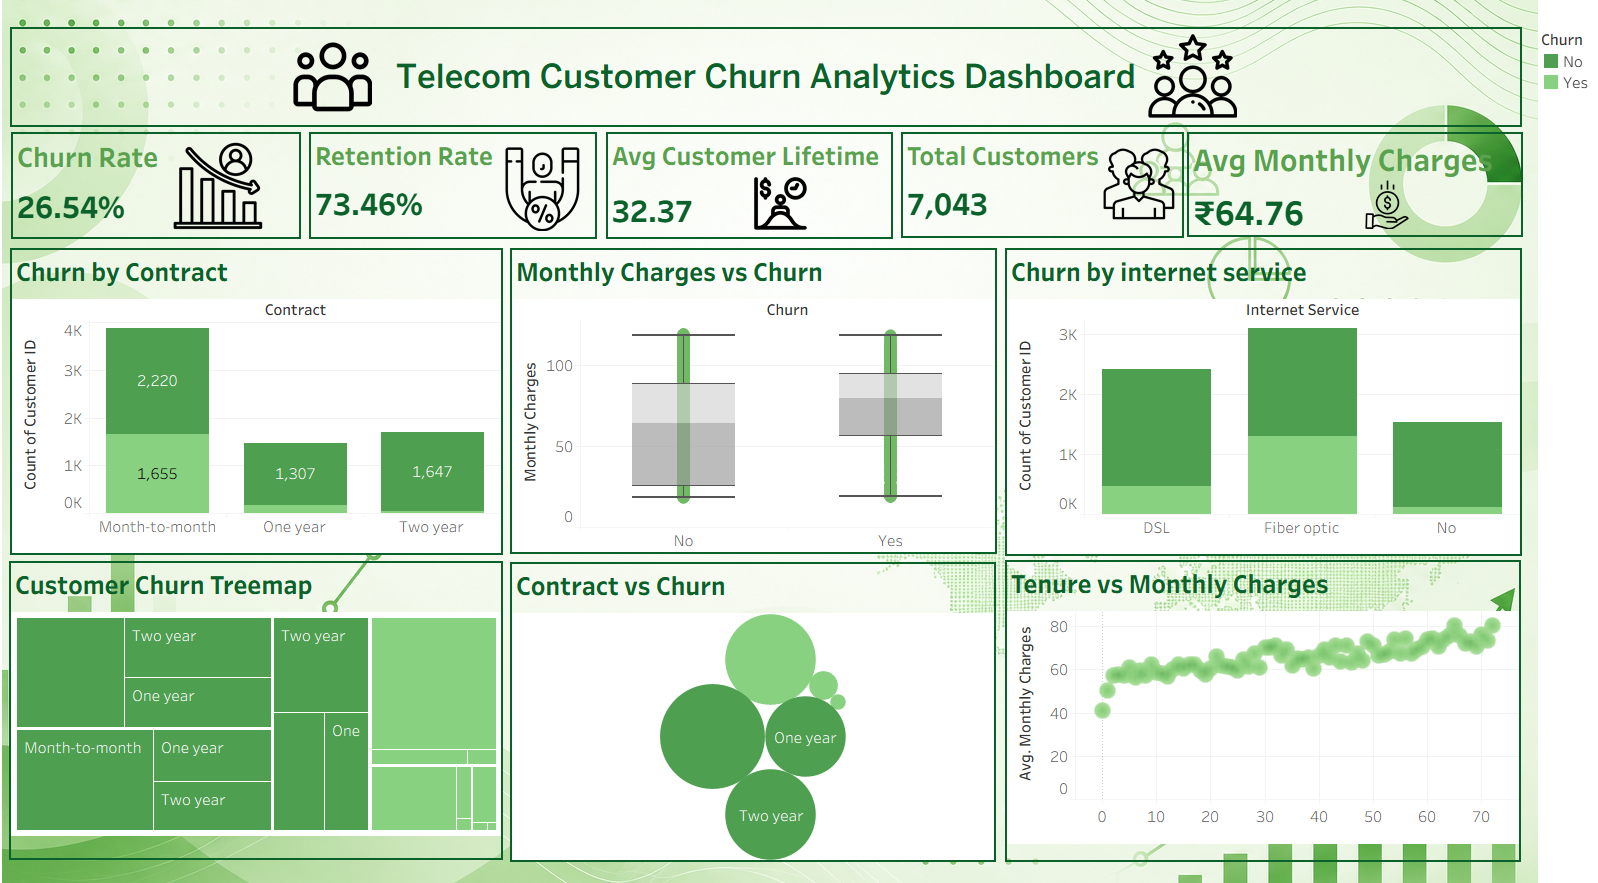

The page's visual inventory and layout, read from the dashboard file:
{"tool":"tableau","page":{"name":"Dashboard 1","canvas":[1000,1000],"units":"permille","ordinal":0},"visuals":[{"type":"text","box":[5.8,28,879.1,115.9]},{"type":"legend","title":"Churn by Contract","param":"[federated.1d74etf1fx899f15xdj3m0omlz8l].[none:Churn:nk]","box":[895.9,30.6,63.4,114.7]},{"type":"image","param":"Image/rating.png","box":[663.4,33.1,60.5,103.2]},{"type":"image","param":"Image/customer.png","box":[169.8,39.5,47.1,91.7]},{"type":"worksheet","title":"churn rate","mark":"Automatic","box":[6.4,150.3,168.6,124.8]},{"type":"worksheet","title":"Retention Rate","mark":"Automatic","box":[179.7,150.3,167.4,124.8]},{"type":"worksheet","title":"Avg Customer Lifetime","mark":"Automatic","box":[352.3,150.3,166.9,124.8]},{"type":"worksheet","title":"Total Customers","mark":"Automatic","box":[523.8,150.3,164.5,123.6]},{"type":"worksheet","title":"Sheet 11","mark":"Automatic","box":[690.1,150.3,195.3,122.3]},{"type":"image","param":"Image/churn-rate.png","box":[99.4,159.2,54.6,105.7]},{"type":"image","param":"Image/people.png","box":[640.7,159.2,42.4,101.9]},{"type":"image","param":"Image/retention-rate.png","box":[290.1,166.9,50.6,98.1]},{"type":"image","param":"Image/values.png","box":[429.1,197.5,48.8,70.1]},{"type":"image","param":"Image/save-money.png","box":[765.7,206.4,80.8,57.3]},{"type":"worksheet","title":"Churn by Contract","mark":"Automatic","rows":["customerID"],"cols":["Contract"],"box":[5.8,285.4,286.6,356.7]},{"type":"worksheet","title":"Monthly Charges vs Churn","mark":"Circle","rows":["MonthlyCharges"],"cols":["Churn"],"box":[296.5,285.4,283.1,355.4]},{"type":"worksheet","title":"churn by internet service ","mark":"Automatic","rows":["customerID"],"cols":["InternetService"],"box":[584.3,285.4,300.6,358]},{"type":"worksheet","title":"Sheet 10","mark":"Heatmap","rows":["MonthlyCharges"],"cols":["tenure"],"box":[584.3,647.1,300,351.6]},{"type":"worksheet","title":"Customer Churn Treemap","mark":"Automatic","box":[5.2,648.4,287.2,347.8]},{"type":"worksheet","title":"Contract vs Churn","mark":"Circle","box":[296.5,649.7,282.6,349]}]}

Visuals, with their boxes on the dashboard's canvas, which has no fixed pixel size, in thousandths of its width and height (x1, y1, x2, y2). These are canvas units, not pixel positions in the 1598x883 screenshot, which may show the page scaled, cropped or inside an application window:
text: box(6, 28, 885, 144)
"Churn by Contract" legend: box(896, 31, 959, 145)
image: box(663, 33, 724, 136)
image: box(170, 40, 217, 131)
"churn rate" worksheet: box(6, 150, 175, 275)
"Retention Rate" worksheet: box(180, 150, 347, 275)
"Avg Customer Lifetime" worksheet: box(352, 150, 519, 275)
"Total Customers" worksheet: box(524, 150, 688, 274)
"Sheet 11" worksheet: box(690, 150, 885, 273)
image: box(99, 159, 154, 265)
image: box(641, 159, 683, 261)
image: box(290, 167, 341, 265)
image: box(429, 198, 478, 268)
image: box(766, 206, 846, 264)
"Churn by Contract" worksheet: box(6, 285, 292, 642)
"Monthly Charges vs Churn" worksheet (Circle marks): box(296, 285, 580, 641)
"churn by internet service " worksheet: box(584, 285, 885, 643)
"Sheet 10" worksheet (Heatmap marks): box(584, 647, 884, 999)
"Customer Churn Treemap" worksheet: box(5, 648, 292, 996)
"Contract vs Churn" worksheet (Circle marks): box(296, 650, 579, 999)
